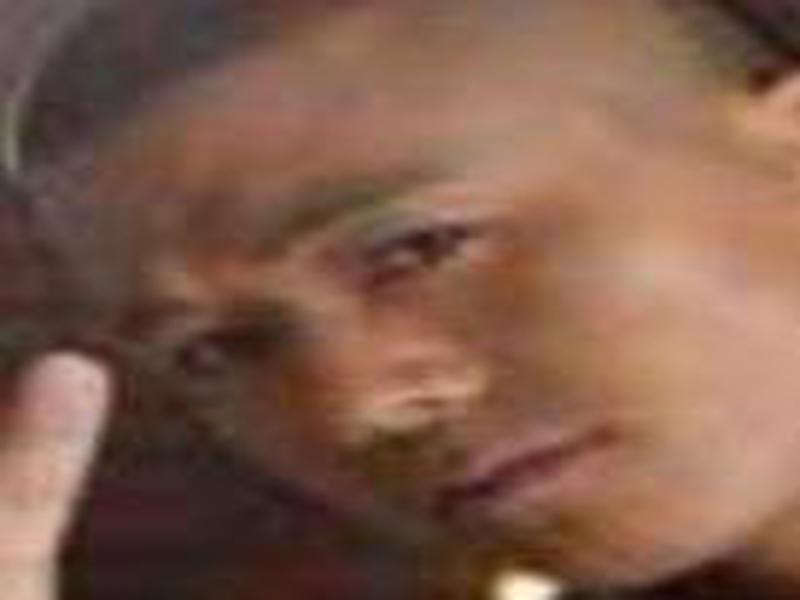without_mask: (24, 84, 785, 582)
